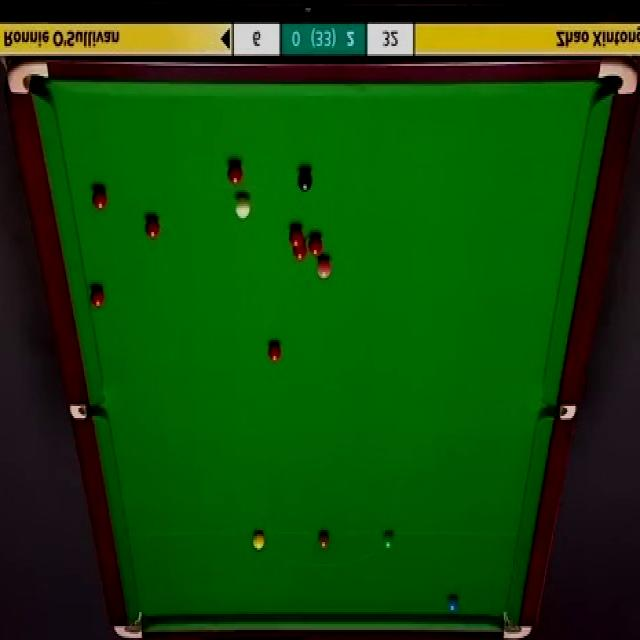black-ball: (298, 172, 312, 192)
blue-ball: (448, 592, 458, 613)
brown-ball: (317, 531, 330, 548)
green-ball: (382, 528, 396, 552)
pink-ball: (315, 260, 332, 281)
red-ball: (226, 163, 244, 187), (287, 226, 305, 250), (290, 238, 308, 262), (92, 184, 108, 210), (308, 233, 324, 256), (146, 216, 160, 240), (90, 288, 105, 310), (266, 343, 282, 362)
white-ball: (234, 194, 251, 219)
yellow-ball: (252, 530, 266, 551)
